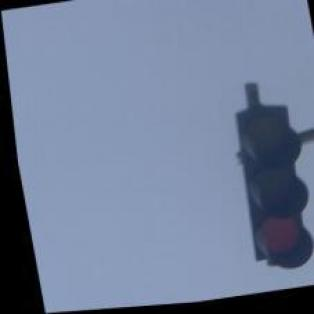Semoforo Rojo: (224, 105, 313, 278)
